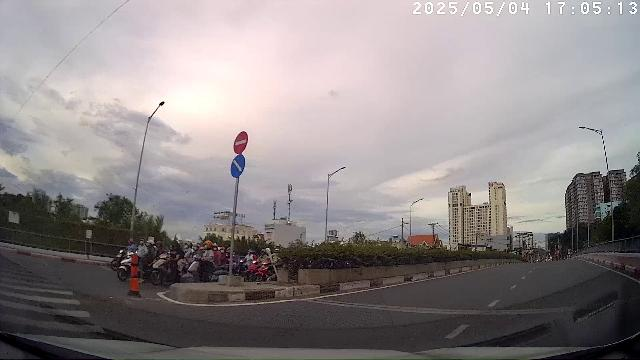102-cam-di-nguoc-chieu: (234, 131, 248, 153)
302a-huong-phai-di-vong-chuong-ngai-vat-1: (231, 155, 245, 177)
